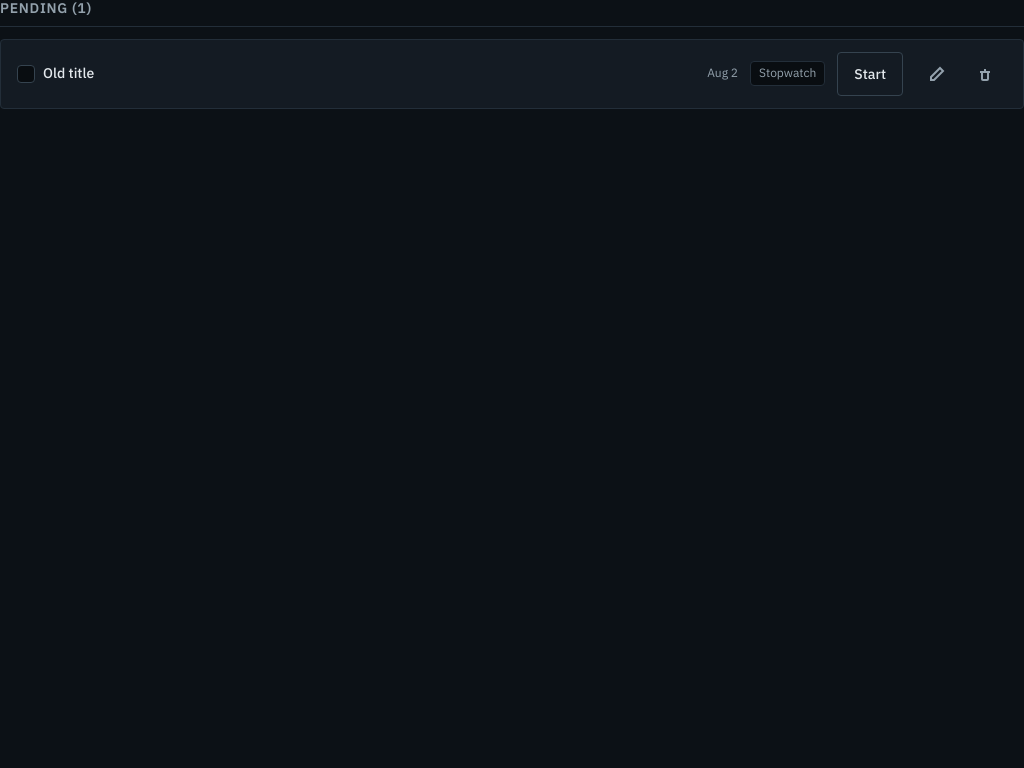
Scenario: Task Management UI › editing a task title persists via the store
The image size is (1024, 768).
Click the button named "Edit task": (937, 74) [915,52,959,96]
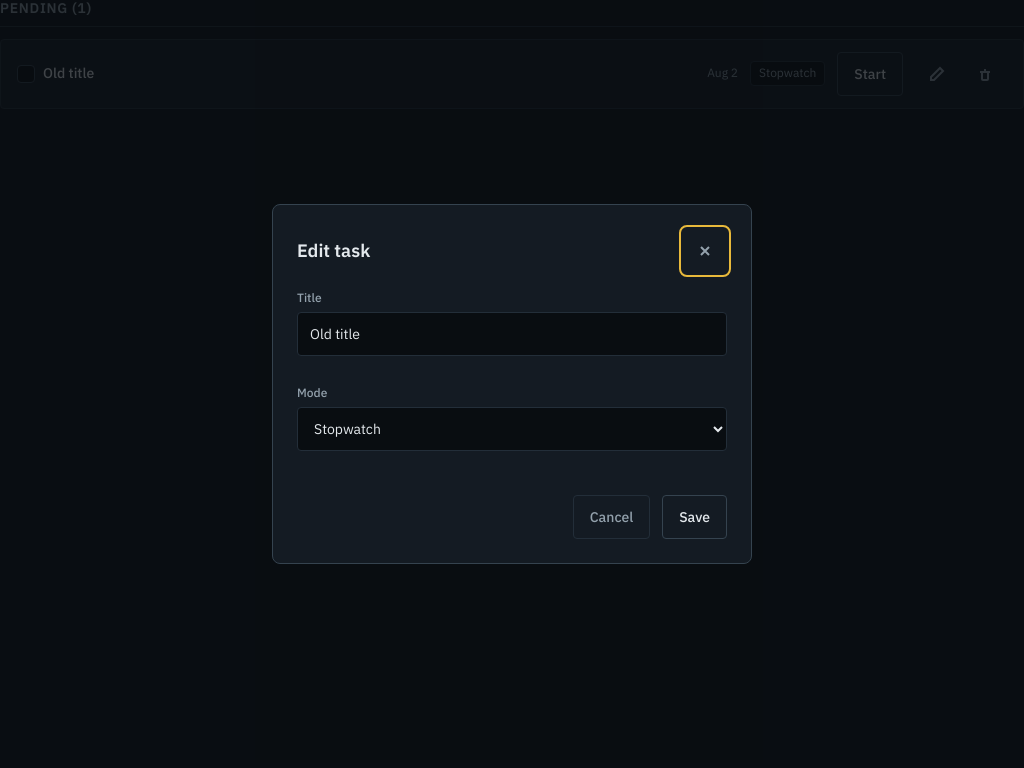
Replace the text in the field showing "Old title" with "Updated title": (512, 334) [297,312,727,356]
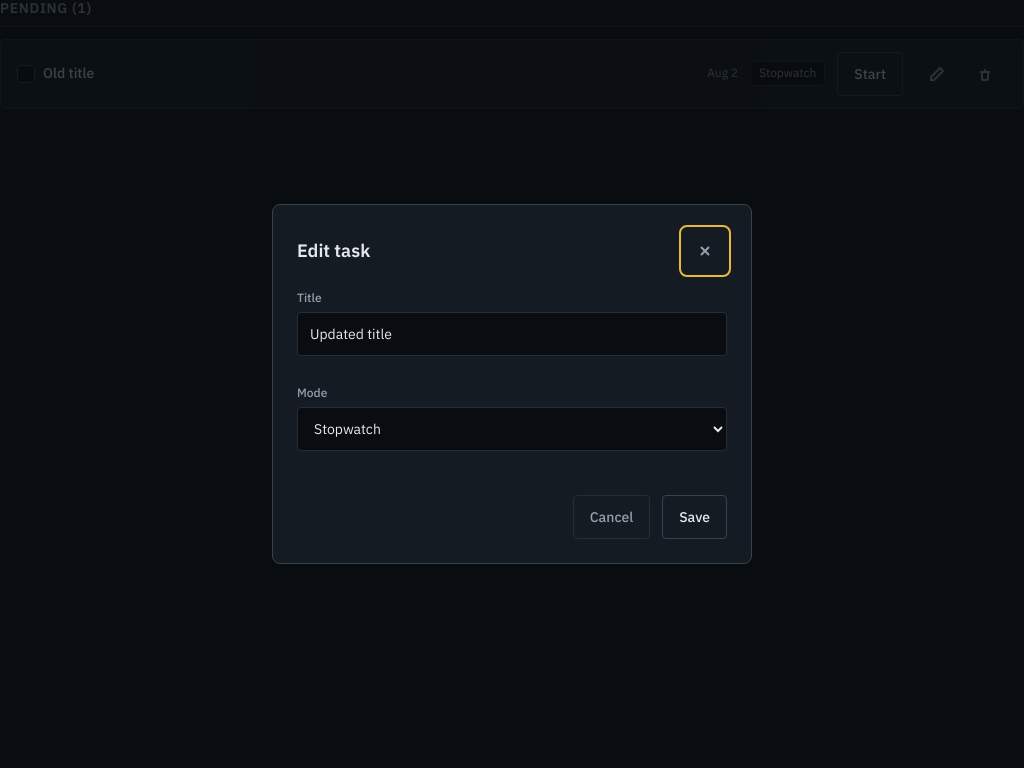
Click the button "Save": (695, 517) [662,495,727,539]
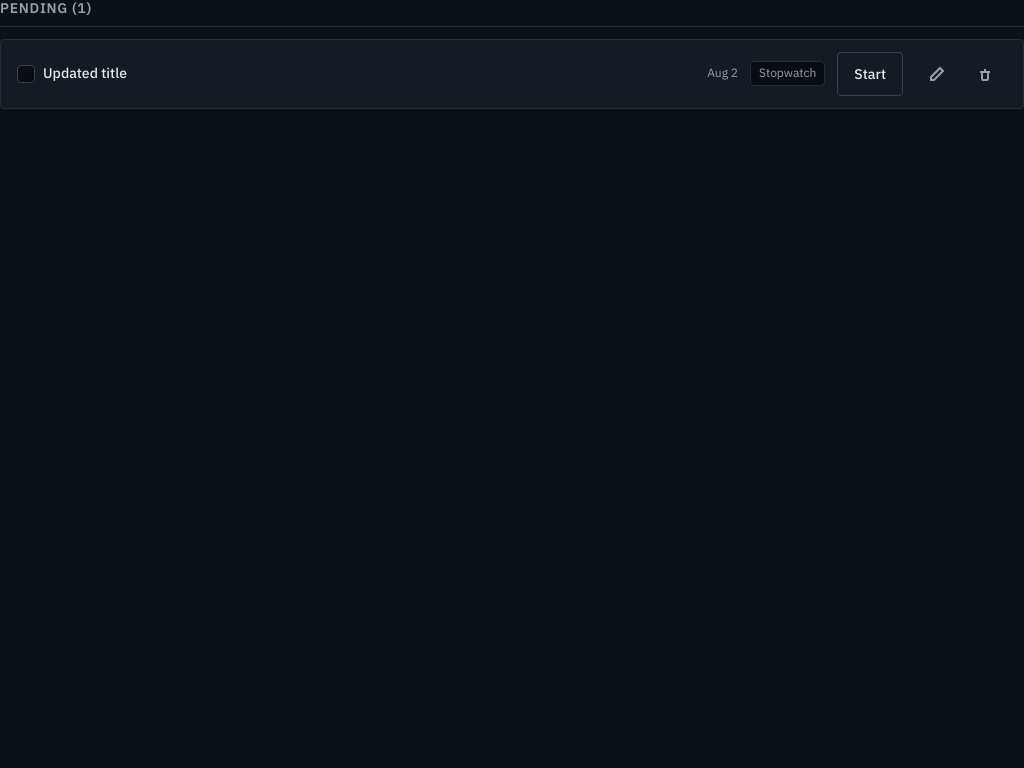
Now the text "Updated title" is shown, box [43,64,127,82]
